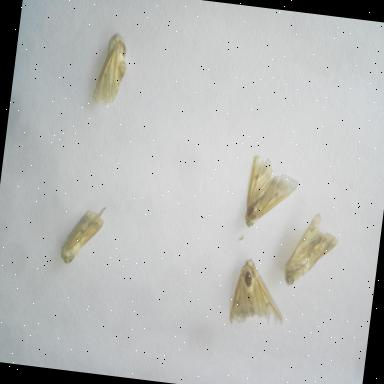abw: (224, 254, 296, 337), (280, 206, 344, 295), (240, 152, 304, 236), (55, 198, 109, 272), (88, 28, 133, 112)
